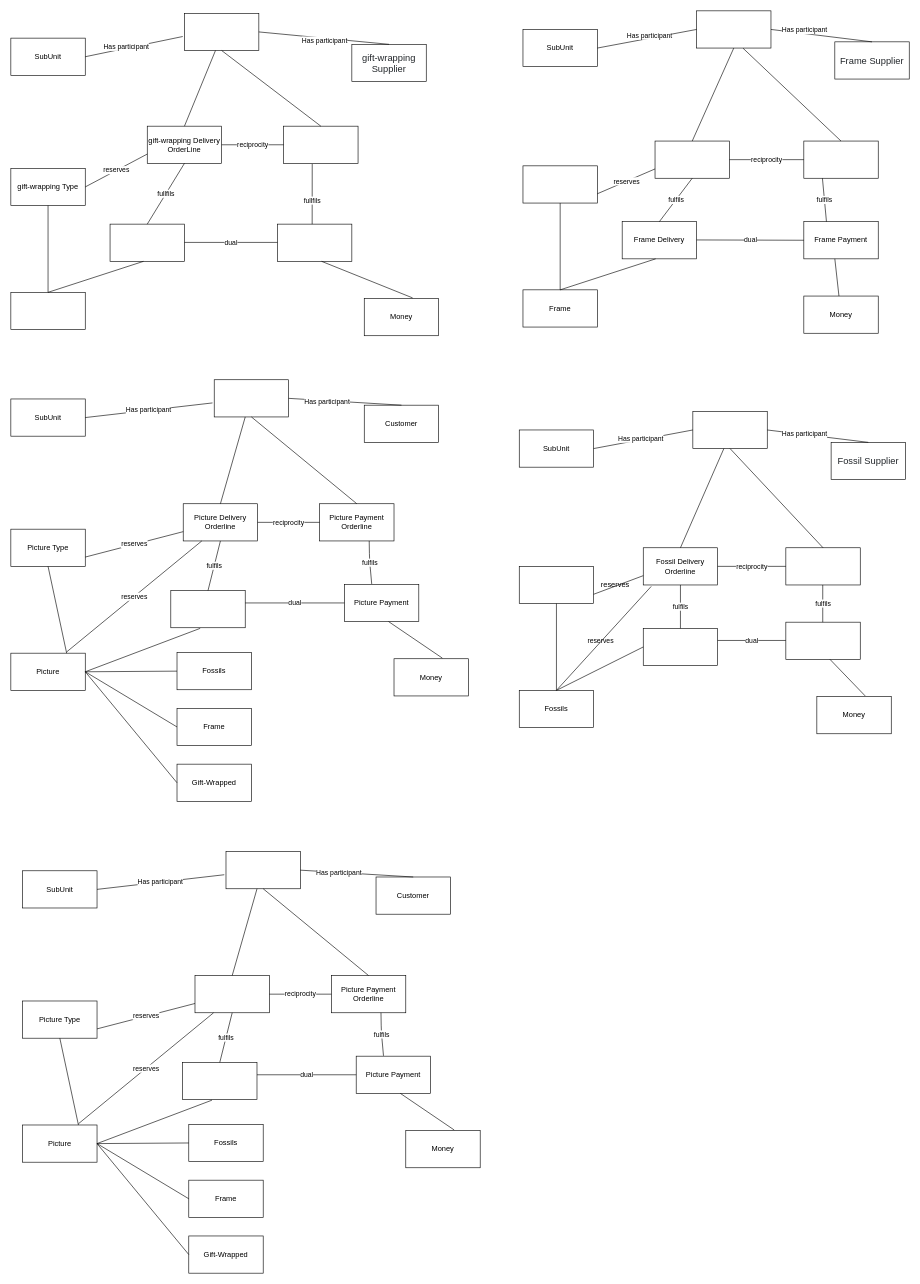
Image size: 920x1284. Some labels were removed from this diagram. The box of each missing label's shape, as (x1, y1, x2, y2) in pixels:
Fossil Delivery: (643, 628, 718, 666)
Fossil Order: (692, 411, 767, 449)
Fossil Payment: (785, 622, 860, 659)
Fossil Payment Orderline: (785, 547, 860, 585)
Fossil Type: (519, 566, 594, 604)
Frame Delivery Orderline: (654, 140, 729, 178)
Frame Order: (696, 10, 771, 48)
Frame Payment Orderline: (803, 140, 878, 178)
Frame Type: (522, 165, 597, 203)
Gift-Warapp: (10, 292, 85, 330)
gift-wrapping Delivery: (109, 224, 184, 261)
gift-wrapping Order: (184, 13, 259, 51)
gift-wrapping Payment: (277, 224, 352, 261)
gift-wrapping payment OrderLine: (283, 126, 358, 163)
Order Picture By Delivery: (214, 379, 289, 417)
Order Picture Without Delivery: (225, 851, 300, 889)
Picture Delivery: (170, 590, 245, 628)
Picture Orderline: (194, 975, 269, 1013)
Picture Sale: (182, 1062, 257, 1100)
